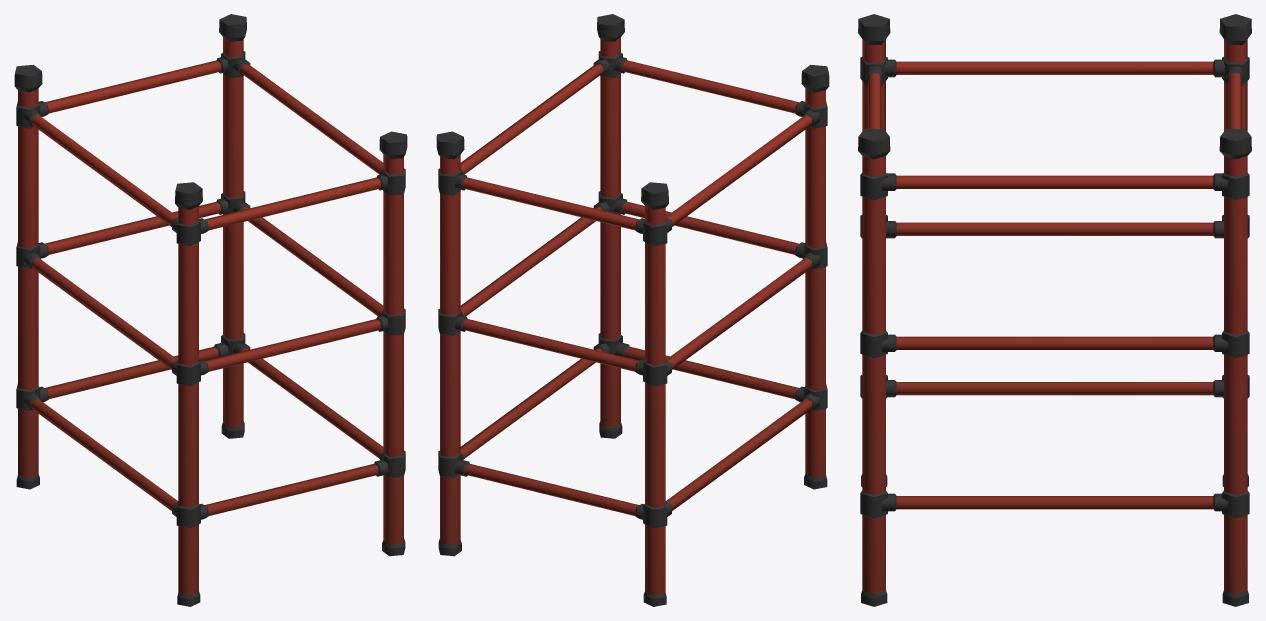
File: Scaffolding_D_1.fbx
3 views of the same model, side by side, from view 1: azimuth 30°, elevation 25°; view 2: azimuth 150°, elevation 25°; view 3: azimuth 270°, elevation 25° (orthographic). The views are drawn at different scales.
Parts seen in each view (by area): view 1: Scaffolding_D_1; view 2: Scaffolding_D_1; view 3: Scaffolding_D_1.
Part boxes in pixels (x1,y1,x2,y2): Scaffolding_D_1: [14, 14, 407, 606]; Scaffolding_D_1: [436, 14, 829, 606]; Scaffolding_D_1: [858, 14, 1251, 606].
Bounding box in the file's own units: 167 × 285 × 218.
